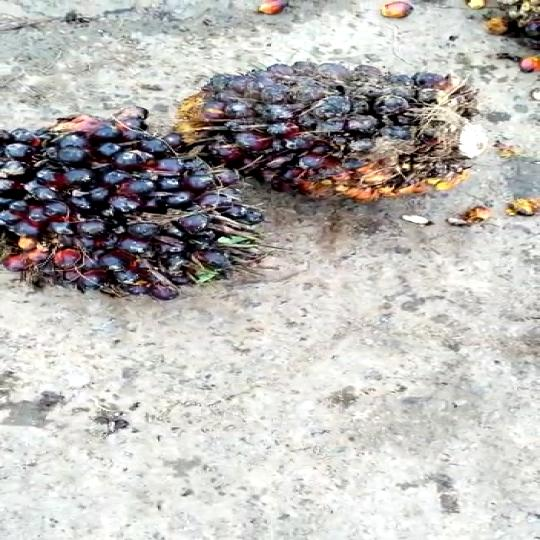kurang masak: (0, 107, 275, 304), (160, 61, 502, 203)
